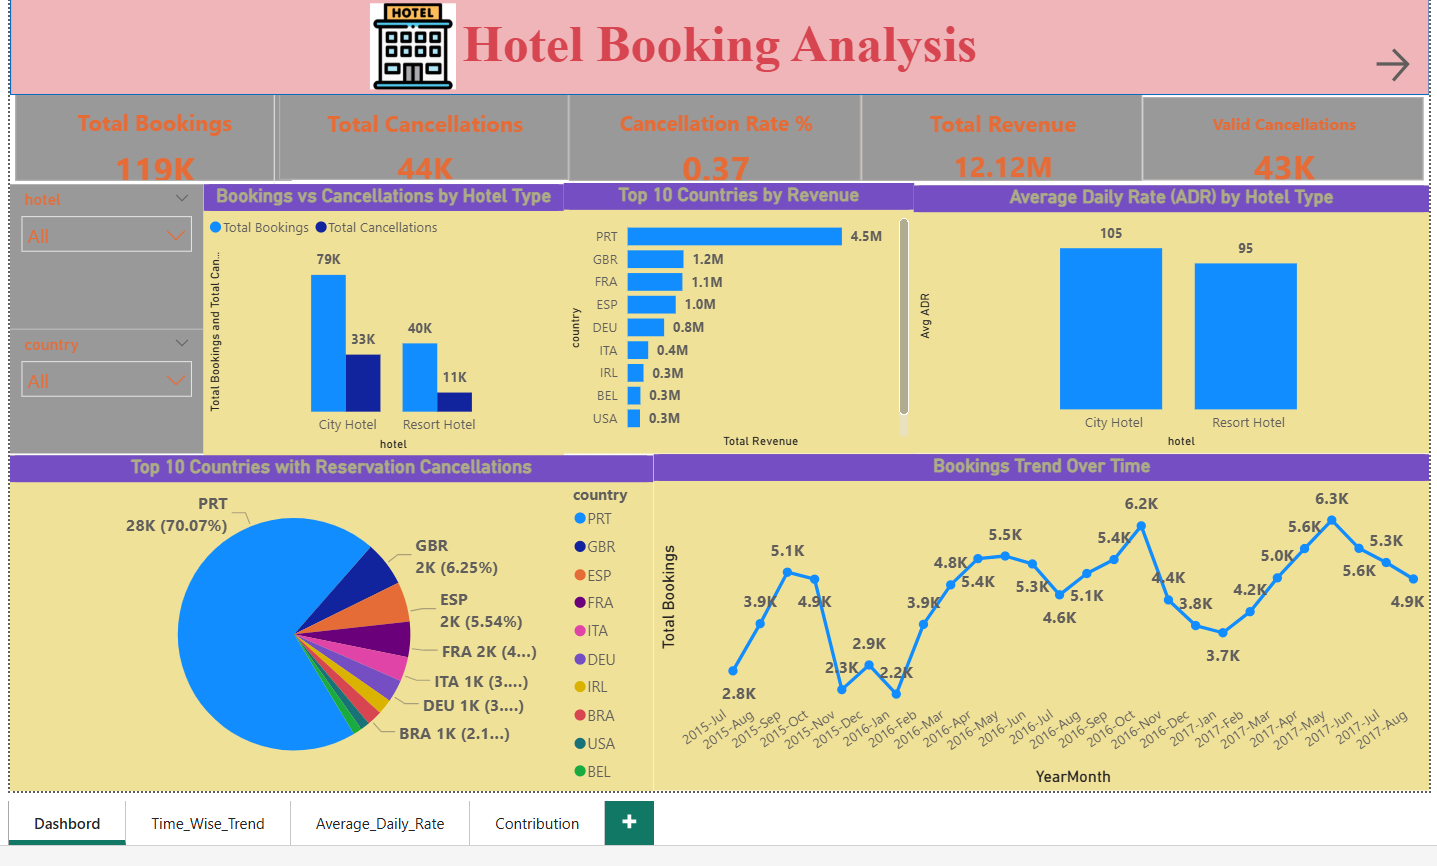

What the dashboard file says about the page in this screenshot:
{"tool":"powerbi","page":{"name":"Dashbord","canvas":[1280,720],"ordinal":0},"visuals":[{"type":"cardVisual","title":"ghghgg","fields":{"Data":["final_Hotel_Bokings_Analysis.Total Bookings"]},"box":[0,84.6,260,90.8],"z":0},{"type":"cardVisual","fields":{"Data":["final_Hotel_Bokings_Analysis.Total Cancellations"]},"box":[237.6,85.8,271.2,88.3],"z":1000},{"type":"cardVisual","fields":{"Data":["final_Hotel_Bokings_Analysis.Cancellation Rate %"]},"box":[498.8,85.8,273.7,89.6],"z":2000},{"type":"cardVisual","fields":{"Data":["final_Hotel_Bokings_Analysis.Total Revenue"]},"box":[762.5,85.8,263.7,89.6],"z":3000},{"type":"cardVisual","fields":{"Data":["final_Hotel_Bokings_Analysis.Valid Cancellations"]},"box":[1016.3,89.6,263.7,85.8],"z":4000},{"type":"clusteredColumnChart","title":"Bookings vs Cancellations by Hotel Type","fields":{"Category":["final_Hotel_Bokings_Analysis.hotel"],"Y":["final_Hotel_Bokings_Analysis.Total Bookings","final_Hotel_Bokings_Analysis.Total Cancellations"]},"box":[174.2,172.9,324.7,245.1],"z":5000},{"type":"lineChart","title":"Bookings Trend Over Time","fields":{"Y":["final_Hotel_Bokings_Analysis.Total Bookings"],"Category":["final_Hotel_Bokings_Analysis.YearMonth"]},"box":[580.2,416.3,700,303.5],"z":6000},{"type":"clusteredBarChart","title":"Top 10 Countries by Revenue","fields":{"Y":["final_Hotel_Bokings_Analysis.Total Revenue"],"Category":["final_Hotel_Bokings_Analysis.country"]},"box":[498.8,171.7,316,243.8],"z":7000},{"type":"pieChart","title":"Top 10 Countries with Reservation Cancellations","fields":{"Category":["final_Hotel_Bokings_Analysis.country"],"Y":["final_Hotel_Bokings_Analysis.Total Cancellations"]},"box":[0,416.7,579.7,303.5],"z":8000},{"type":"slicer","fields":{"Values":["final_Hotel_Bokings_Analysis.country"]},"box":[0,303.5,174.2,112],"z":9000},{"type":"slicer","fields":{"Values":["final_Hotel_Bokings_Analysis.hotel"]},"box":[0,172.9,174.2,130.6],"z":10000},{"type":"clusteredColumnChart","title":"Average Daily Rate (ADR) by Hotel Type","fields":{"Category":["final_Hotel_Bokings_Analysis.hotel"],"Y":["final_Hotel_Bokings_Analysis.Avg ADR"]},"box":[815.1,173.3,465.1,241.9],"z":11000},{"type":"shape","box":[0,0,1280,92.1],"z":12000},{"type":"image","box":[318.5,5,89.6,87.1],"z":13000},{"type":"actionButton","box":[1226.5,44.8,53.5,39.8],"z":13001}]}

Visuals, with their boxes on the page's 1280x720 design canvas (x1, y1, x2, y2). These are canvas units, not pixel positions in the 1437x866 screenshot, which may show the page scaled, cropped or inside an application window:
"ghghgg" cardVisual: box(0, 85, 260, 175)
cardVisual - final_Hotel_Bokings_Analysis.Total Cancellations: box(238, 86, 509, 174)
cardVisual - final_Hotel_Bokings_Analysis.Cancellation Rate %: box(499, 86, 772, 175)
cardVisual - final_Hotel_Bokings_Analysis.Total Revenue: box(762, 86, 1026, 175)
cardVisual - final_Hotel_Bokings_Analysis.Valid Cancellations: box(1016, 90, 1280, 175)
"Bookings vs Cancellations by Hotel Type" clusteredColumnChart: box(174, 173, 499, 418)
"Bookings Trend Over Time" lineChart: box(580, 416, 1280, 720)
"Top 10 Countries by Revenue" clusteredBarChart: box(499, 172, 815, 416)
"Top 10 Countries with Reservation Cancellations" pieChart: box(0, 417, 580, 720)
slicer - final_Hotel_Bokings_Analysis.country: box(0, 304, 174, 416)
slicer - final_Hotel_Bokings_Analysis.hotel: box(0, 173, 174, 304)
"Average Daily Rate (ADR) by Hotel Type" clusteredColumnChart: box(815, 173, 1280, 415)
shape: box(0, 0, 1280, 92)
image: box(318, 5, 408, 92)
actionButton: box(1226, 45, 1280, 85)
